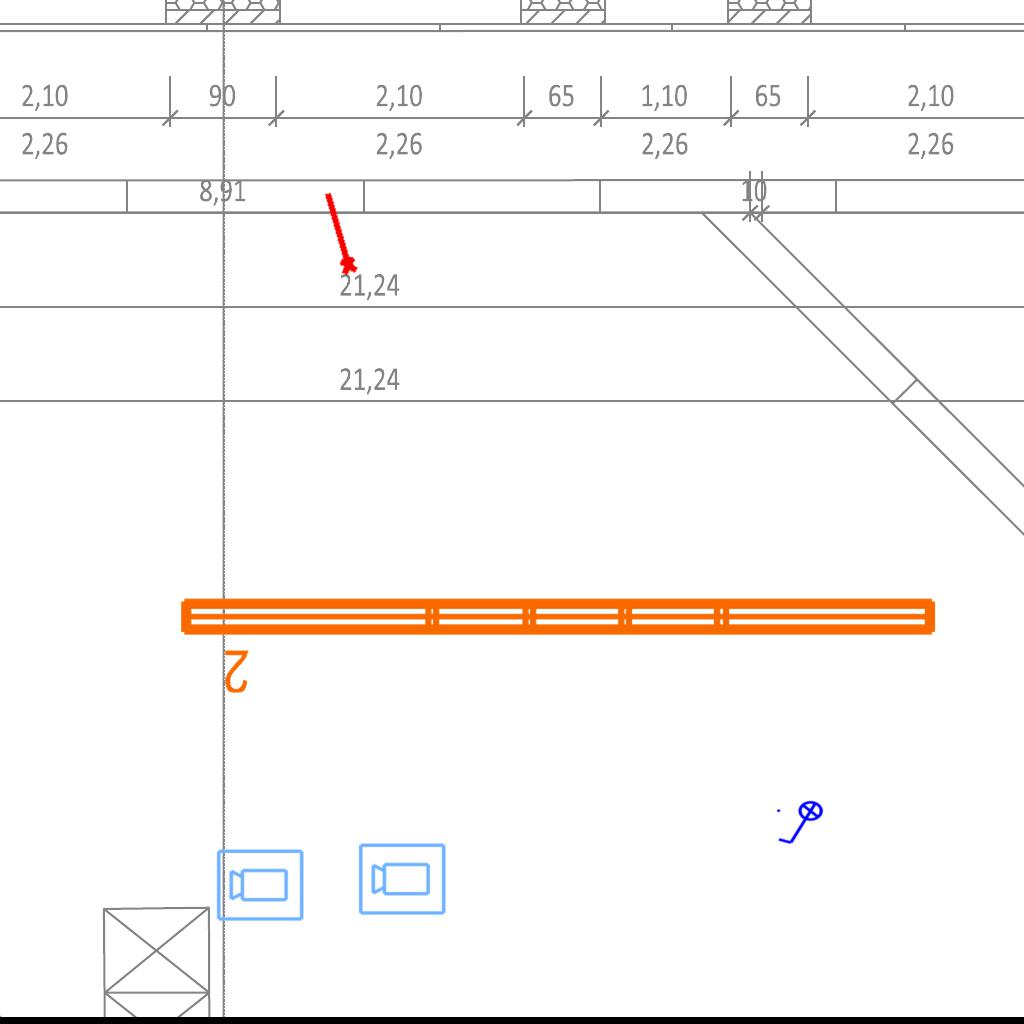ASR_Ansaugoeffnung: (314, 188, 362, 279)
Ambulanz_Pendelleuchte_LED: (172, 586, 946, 698)
Ausschalter_beleuchtet: (774, 800, 830, 848)
KFO_Kamera_mit_Festobjektiv: (215, 846, 306, 923), (357, 840, 448, 917)
